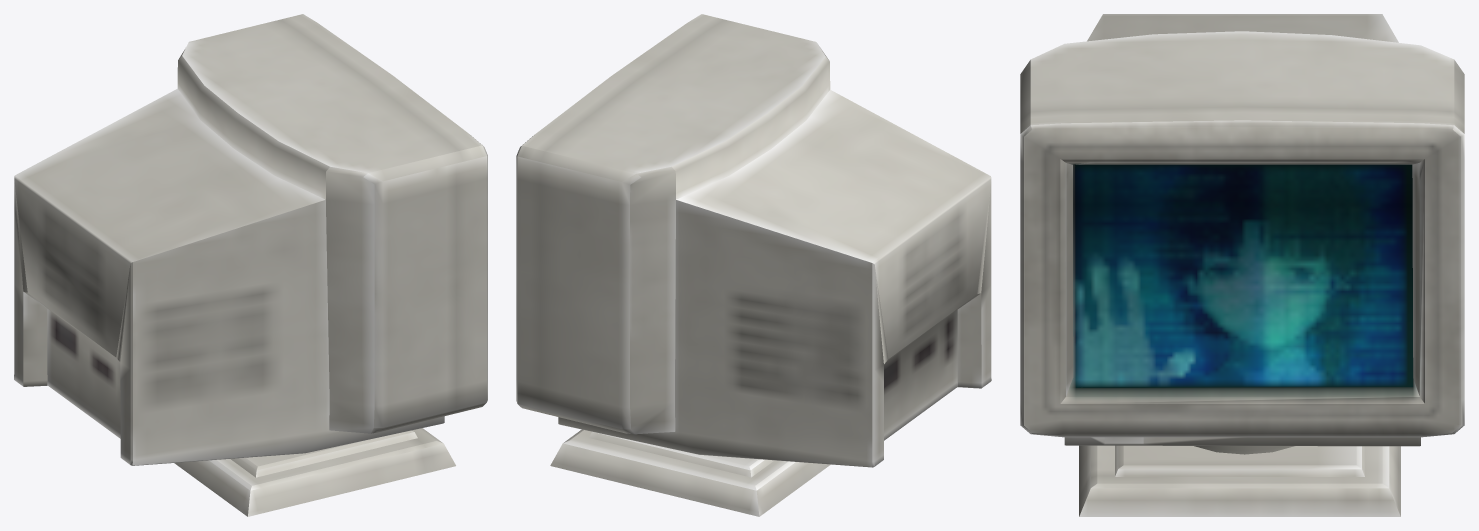
Rendered from computer_lain.glb.
3 views of the same model, side by side, from view 1: azimuth 30°, elevation 25°; view 2: azimuth 150°, elevation 25°; view 3: azimuth 270°, elevation 25° (orthographic). The views are drawn at different scales.
Visible parts, largest first — view 1: obj_computer; view 2: obj_computer; view 3: obj_computer.
Boxes of the visible parts, x1=… form: obj_computer: x1=14, y1=14, x2=487, y2=516; obj_computer: x1=516, y1=14, x2=991, y2=516; obj_computer: x1=1020, y1=14, x2=1464, y2=516.
Size of the model in its own units: 4.58 by 4.59 by 4.62.
1 material, 1 textured.
